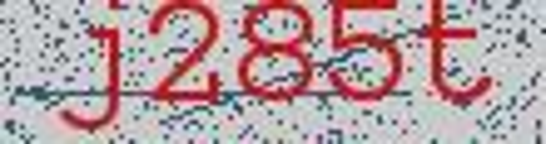2: (141, 1, 222, 108)
5: (322, 1, 409, 113)
8: (233, 2, 316, 112)
j: (49, 1, 130, 134)
t: (412, 1, 502, 111)
